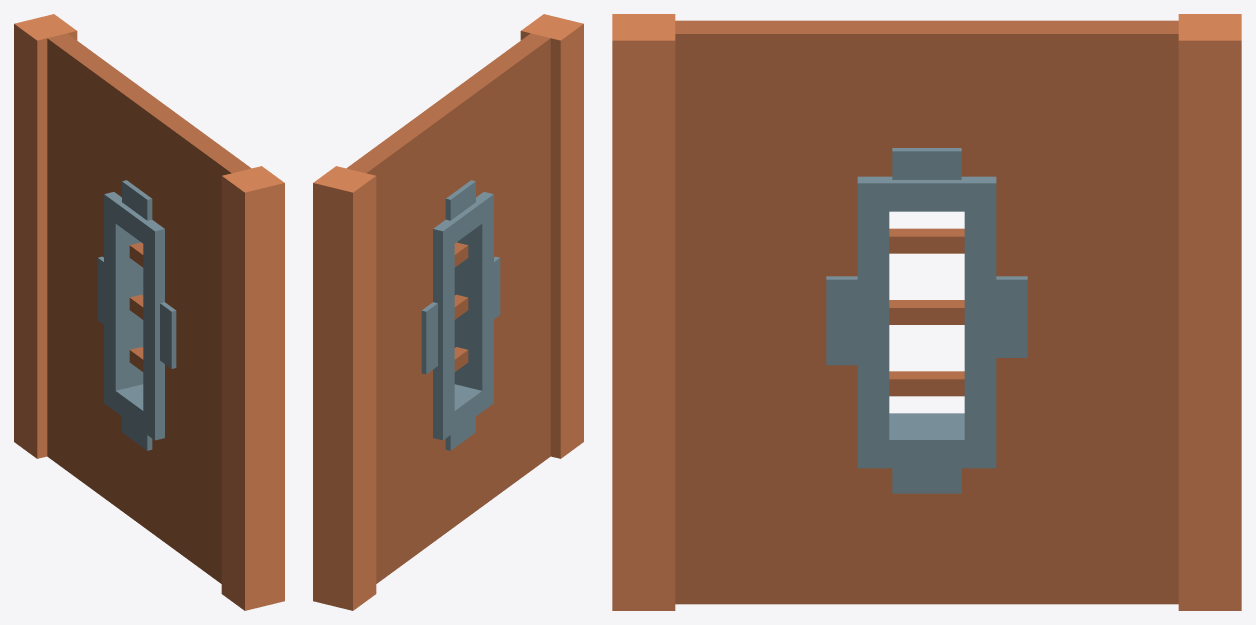
The model's file is wallWoodWindowStone.obj.
3 renders of one model, left to right at view 1: azimuth 30°, elevation 25°; view 2: azimuth 150°, elevation 25°; view 3: azimuth 270°, elevation 25°, orthographic. The views are drawn at different scales.
Visible parts, largest first — view 1: wallWoodWindowStone; view 2: wallWoodWindowStone; view 3: wallWoodWindowStone.
Boxes of the visible parts, x1,y1,x2,y2 form: wallWoodWindowStone: (14,14,284,610); wallWoodWindowStone: (313,14,583,610); wallWoodWindowStone: (612,14,1241,610).
Size of the model in its own units: 0.1 by 1 by 1.
